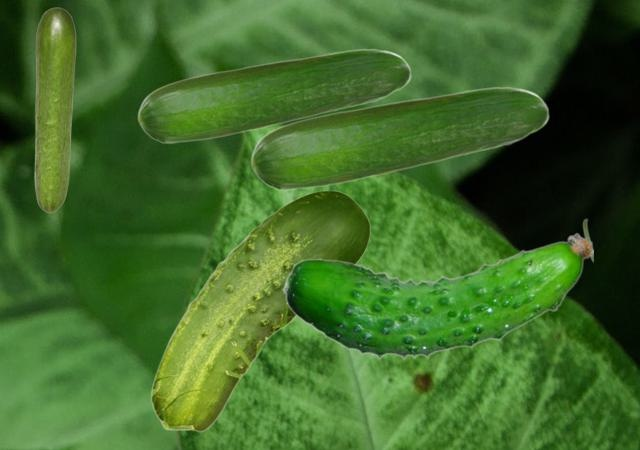cucumber: (150, 190, 369, 431), (281, 218, 592, 359), (250, 86, 548, 190), (137, 48, 410, 143), (34, 7, 75, 212)
